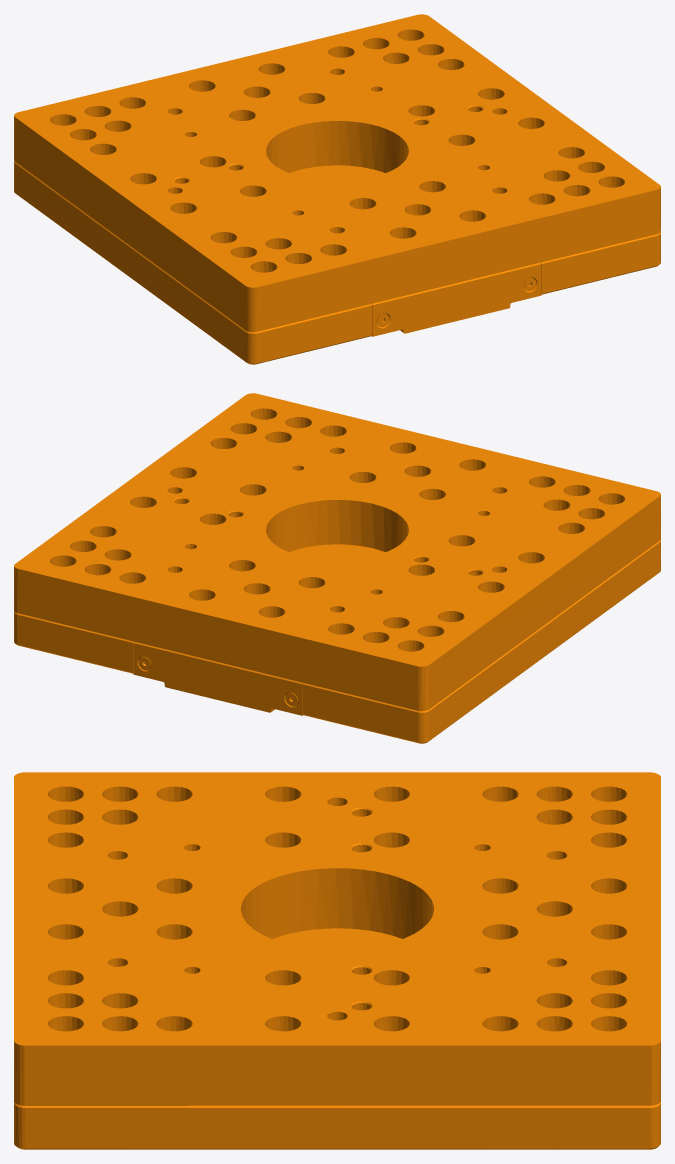
Rendered from crx_carriage.dae.
3 views of the same model, one above another, from view 1: azimuth 30°, elevation 25°; view 2: azimuth 150°, elevation 25°; view 3: azimuth 270°, elevation 25° (orthographic). The views are drawn at different scales.
Visible parts, largest first — view 1: Carriage_new; view 2: Carriage_new; view 3: Carriage_new.
Boxes of the visible parts, x1,y1,x2,y2 form: Carriage_new: (14, 14, 660, 364); Carriage_new: (14, 393, 660, 743); Carriage_new: (14, 772, 660, 1149).
Bounding box in the file's own units: 0.268 × 0.268 × 0.051.
